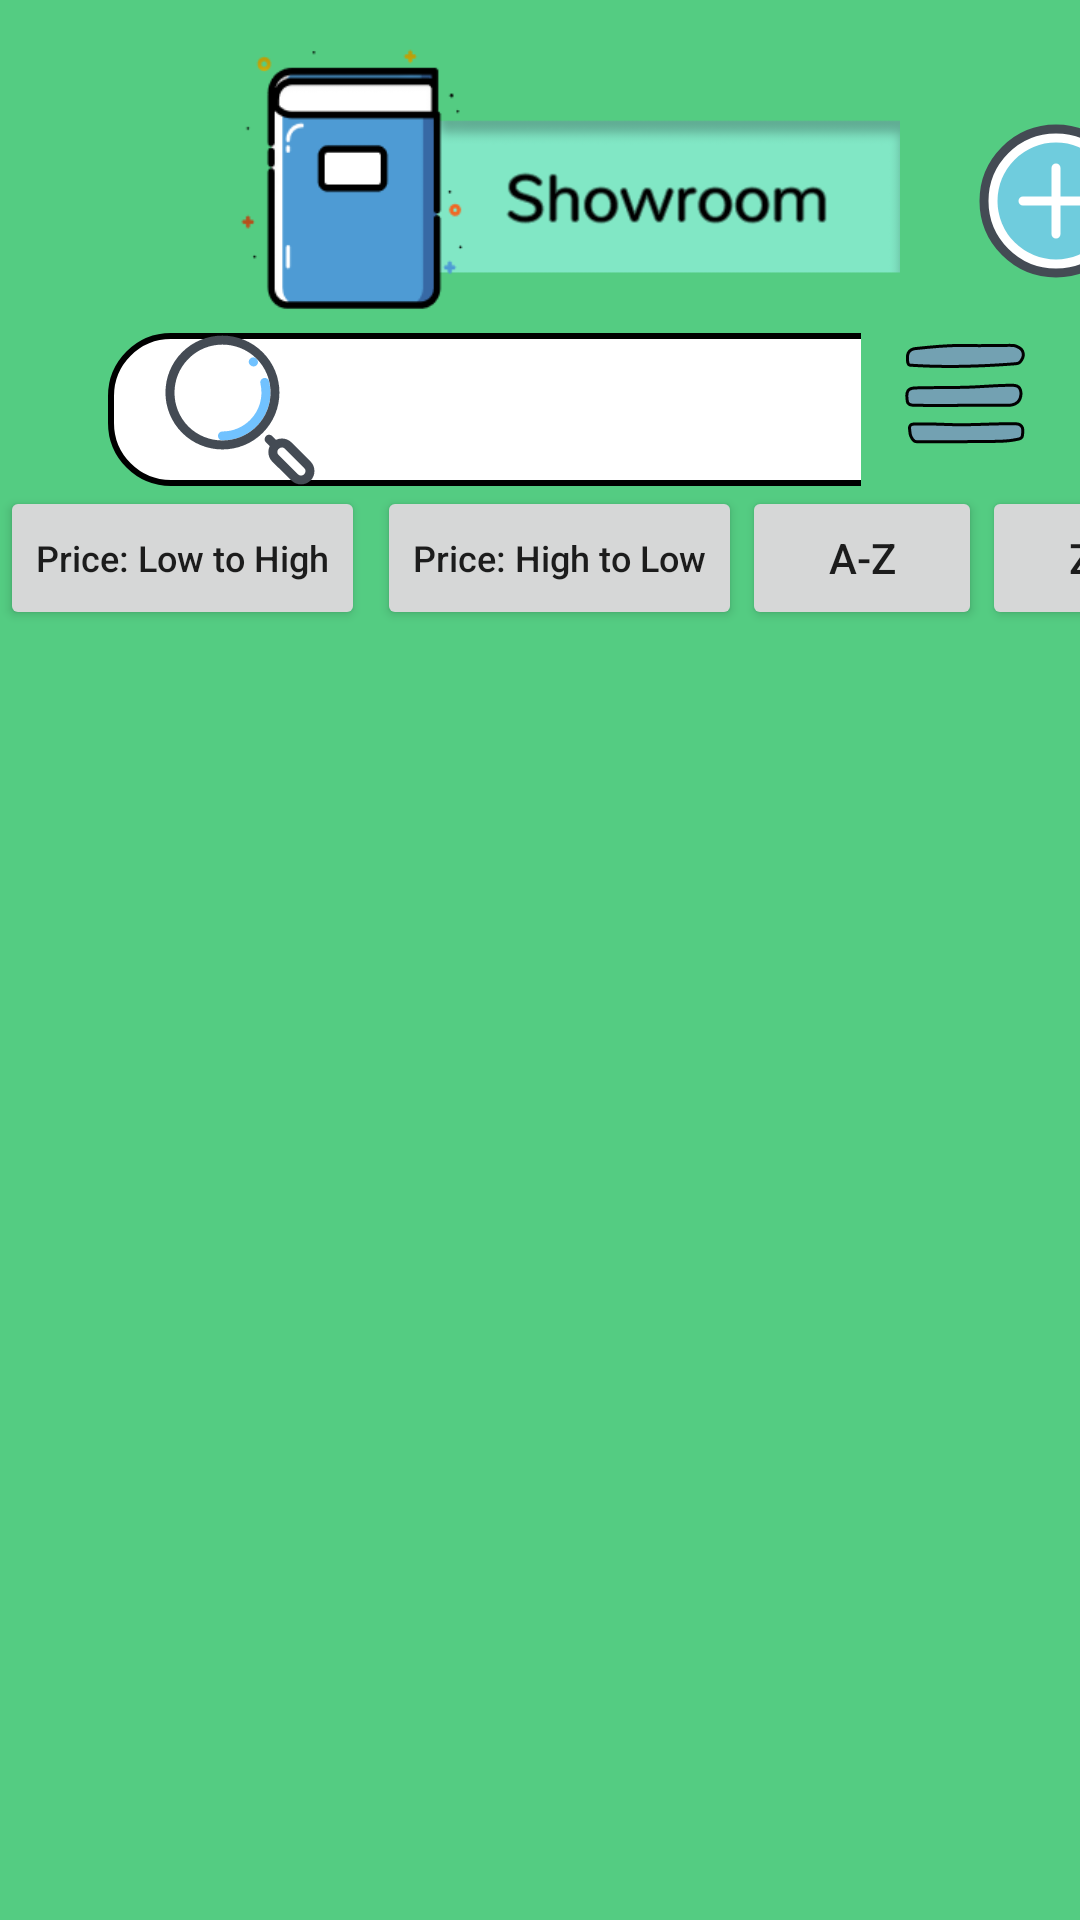

Icon bounding boxes for this 1080x1920 phone screenshot, format (x1, y1, x2, y2):
menu: (905, 343, 1025, 444)
